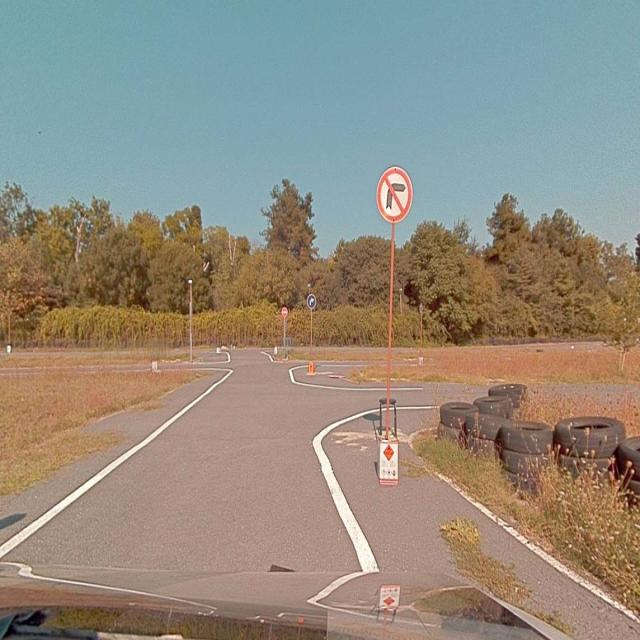girisyok: (281, 306, 287, 316)
sag: (307, 295, 316, 308)
sagadonulmez: (378, 165, 412, 223)
